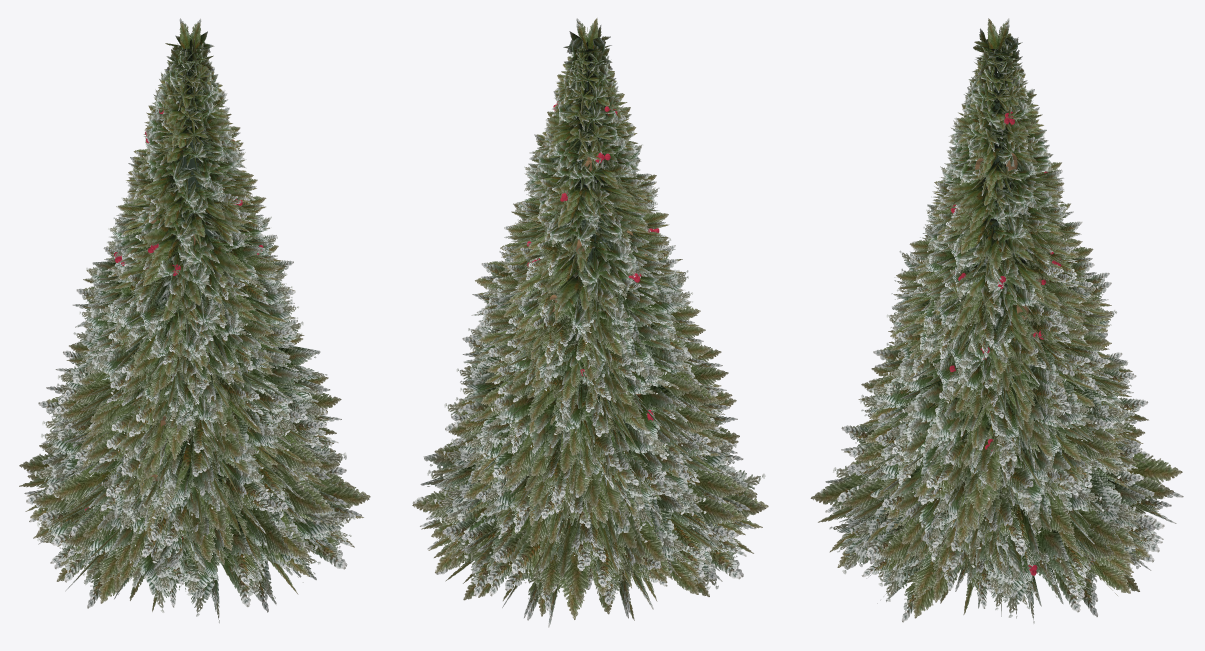
File: frasin-240.glb
The picture shows the model from 3 angles, left to right: view 1: azimuth 30°, elevation 25°; view 2: azimuth 150°, elevation 25°; view 3: azimuth 270°, elevation 25°; orthographic projection.
Parts seen in each view (by area): view 1: brad; view 2: brad; view 3: brad.
Boxes of the visible parts, <box> form: brad: <box>19,18,370,623</box>; brad: <box>412,18,768,627</box>; brad: <box>810,18,1183,623</box>.
Size of the model in its own units: 1.45 by 2.4 by 1.5.
2 materials, 1 textured.
